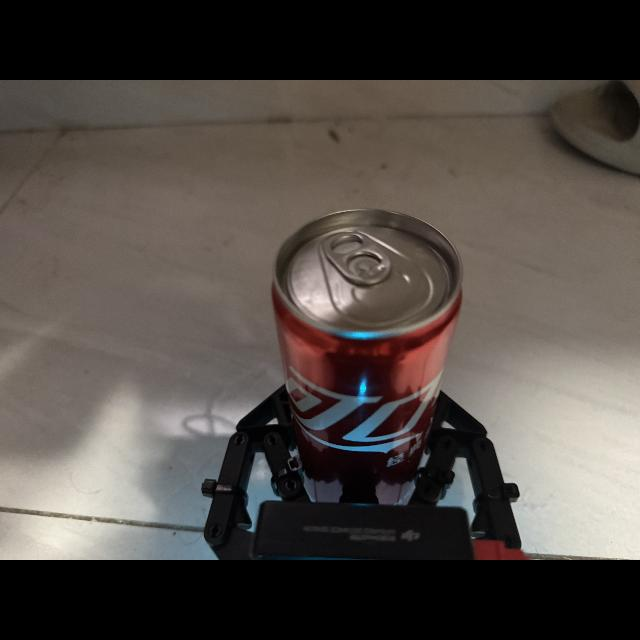Cola: (262, 198, 470, 462)
